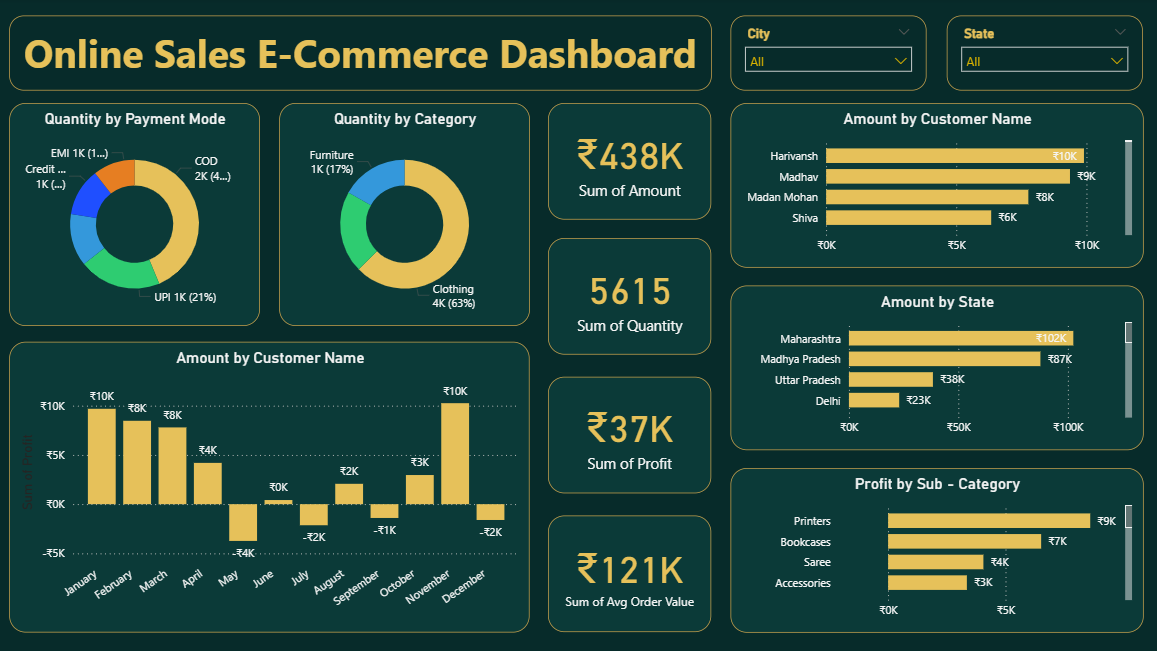

The dashboard page shown, as its layout file describes it:
{"tool":"powerbi","page":{"name":"Crown Sales E-Commerce Dashboard","canvas":[1280,720],"ordinal":0},"visuals":[{"type":"textbox","box":[12.3,19.2,771.2,82.3],"z":0},{"type":"slicer","fields":{"Values":["Orders.State"]},"box":[1042,18.5,215.2,82.7],"z":1000},{"type":"slicer","fields":{"Values":["Orders.City"]},"box":[803.9,18.5,215.2,82.7],"z":2000},{"type":"card","fields":{"Values":["Sum(Details.Amount)"]},"box":[604.4,115.5,179.6,128.3],"z":3000},{"type":"card","fields":{"Values":["Sum(Details.Quantity)"]},"box":[604.4,263.7,179.6,128.3],"z":4000},{"type":"card","fields":{"Values":["Sum(Details.Profit)"]},"box":[604.4,416.2,179.6,128.3],"z":5000},{"type":"card","fields":{"Values":["Sum(Details.AOV)"]},"box":[604.4,568.7,179.6,128.3],"z":6000},{"type":"donutChart","title":"Quantity by Payment Mode","fields":{"Y":["Sum(Details.Quantity)"],"Category":["Details.PaymentMode"]},"box":[12.8,115.5,275.1,245.2],"z":7000},{"type":"donutChart","title":"Quantity by Category","fields":{"Y":["Sum(Details.Quantity)"],"Category":["Details.Category"]},"box":[309.3,115.5,275.1,245.2],"z":8000},{"type":"barChart","title":"Amount by Customer Name","fields":{"Category":["Orders.CustomerName"],"Y":["Sum(Details.Amount)"]},"box":[803.9,115.5,453.3,181],"z":9000},{"type":"barChart","title":"Amount by State","fields":{"Y":["Sum(Details.Amount)"],"Category":["Orders.State"]},"box":[803.9,315,453.3,181],"z":10000},{"type":"barChart","title":"Profit by Sub - Category","fields":{"Y":["Sum(Details.Profit)"],"Category":["Details.Sub-Category"]},"box":[803.9,516,453.3,181],"z":11000},{"type":"columnChart","title":"Amount by Customer Name","fields":{"Category":["Orders.Order Date.Variation.Date Hierarchy.Month"],"Y":["Sum(Details.Profit)"]},"box":[12.8,377.7,571.6,319.3],"z":12000}]}

Visuals, with their boxes in screenshot pixels (x1, y1, x2, y2), scaled from the page's 1280x720 canvas onto the 1157x651 screenshot:
textbox: select_region(11, 17, 708, 92)
slicer - Orders.State: select_region(942, 17, 1136, 92)
slicer - Orders.City: select_region(727, 17, 921, 92)
card - Sum(Details.Amount): select_region(546, 104, 709, 220)
card - Sum(Details.Quantity): select_region(546, 238, 709, 354)
card - Sum(Details.Profit): select_region(546, 376, 709, 492)
card - Sum(Details.AOV): select_region(546, 514, 709, 630)
"Quantity by Payment Mode" donutChart: select_region(12, 104, 260, 326)
"Quantity by Category" donutChart: select_region(280, 104, 528, 326)
"Amount by Customer Name" barChart: select_region(727, 104, 1136, 268)
"Amount by State" barChart: select_region(727, 285, 1136, 448)
"Profit by Sub - Category" barChart: select_region(727, 467, 1136, 630)
"Amount by Customer Name" columnChart: select_region(12, 342, 528, 630)
